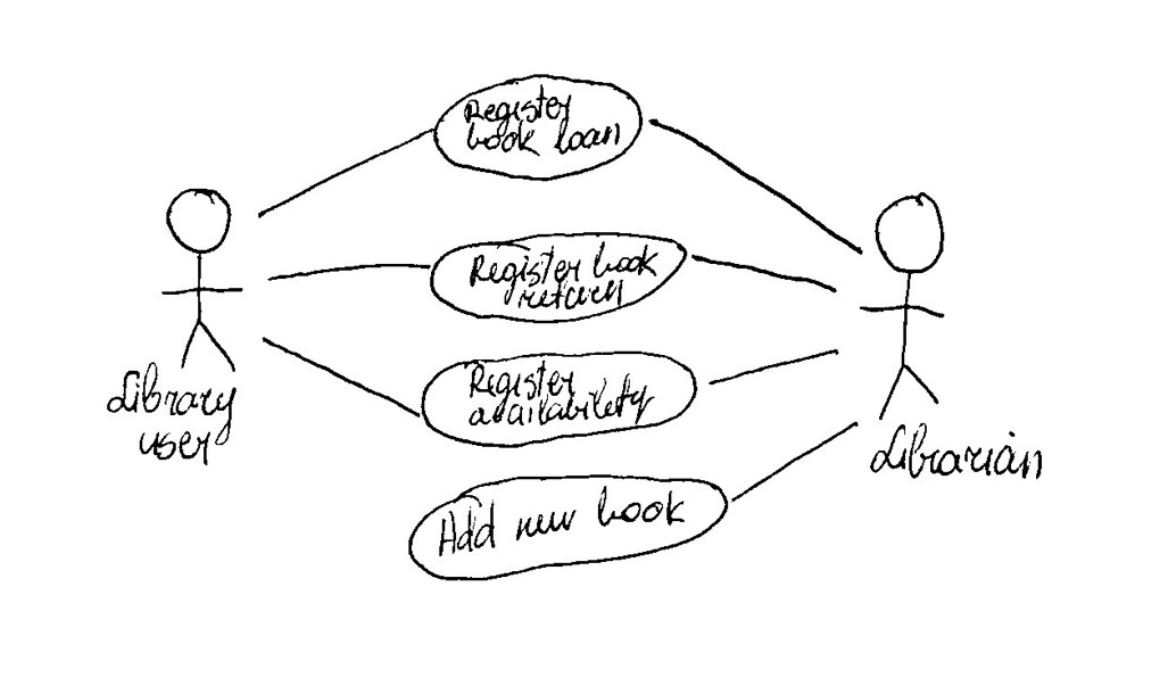actor: (859, 190, 954, 426), (155, 181, 243, 377)
association: (649, 114, 864, 256), (258, 126, 434, 219), (256, 334, 422, 417), (729, 419, 858, 503), (708, 340, 846, 389), (261, 252, 427, 289), (689, 252, 842, 292)
text: (435, 489, 690, 560), (101, 358, 250, 469), (467, 253, 660, 313), (860, 427, 1053, 487), (470, 366, 651, 426), (465, 95, 621, 152)
use_case: (408, 472, 727, 581), (420, 349, 696, 448), (428, 231, 687, 325), (430, 72, 644, 182)
